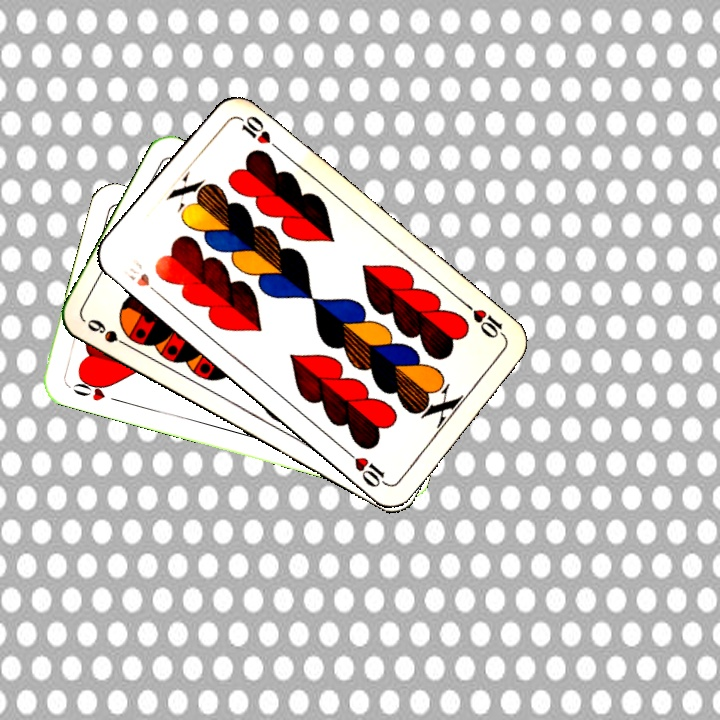H10: (460, 299, 510, 342), (118, 255, 165, 300)
HO: (68, 373, 123, 405)
S9: (83, 314, 136, 352)
